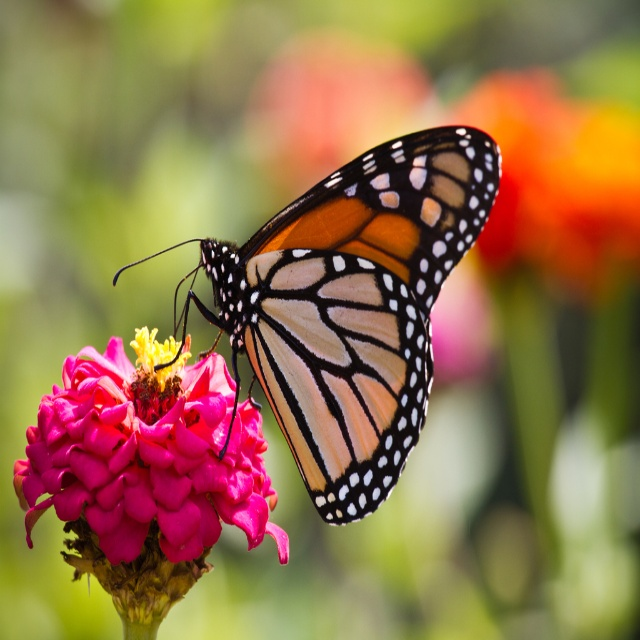Butterfly: (113, 124, 501, 522)
